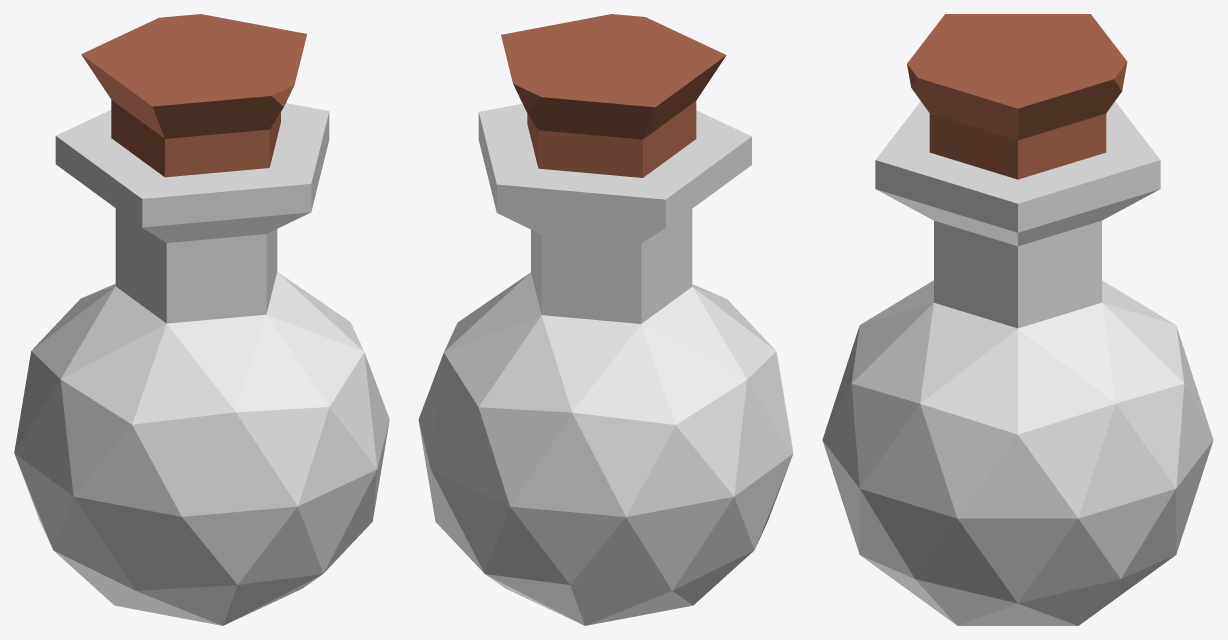
File: Potion.fbx
3 views of the same model, side by side, from view 1: azimuth 30°, elevation 25°; view 2: azimuth 150°, elevation 25°; view 3: azimuth 270°, elevation 25° (orthographic). The views are drawn at different scales.
Parts seen in each view (by area): view 1: Icosphere, Icosphere.003; view 2: Icosphere, Icosphere.003; view 3: Icosphere, Icosphere.003.
Boxes of the visible parts, bbox=[...] form: Icosphere: bbox=[14, 103, 389, 625]; Icosphere.003: bbox=[81, 14, 306, 177]; Icosphere: bbox=[418, 103, 793, 625]; Icosphere.003: bbox=[501, 14, 726, 177]; Icosphere: bbox=[822, 101, 1213, 625]; Icosphere.003: bbox=[907, 14, 1127, 179].
Size of the model in its own units: 190 by 316 by 200.
